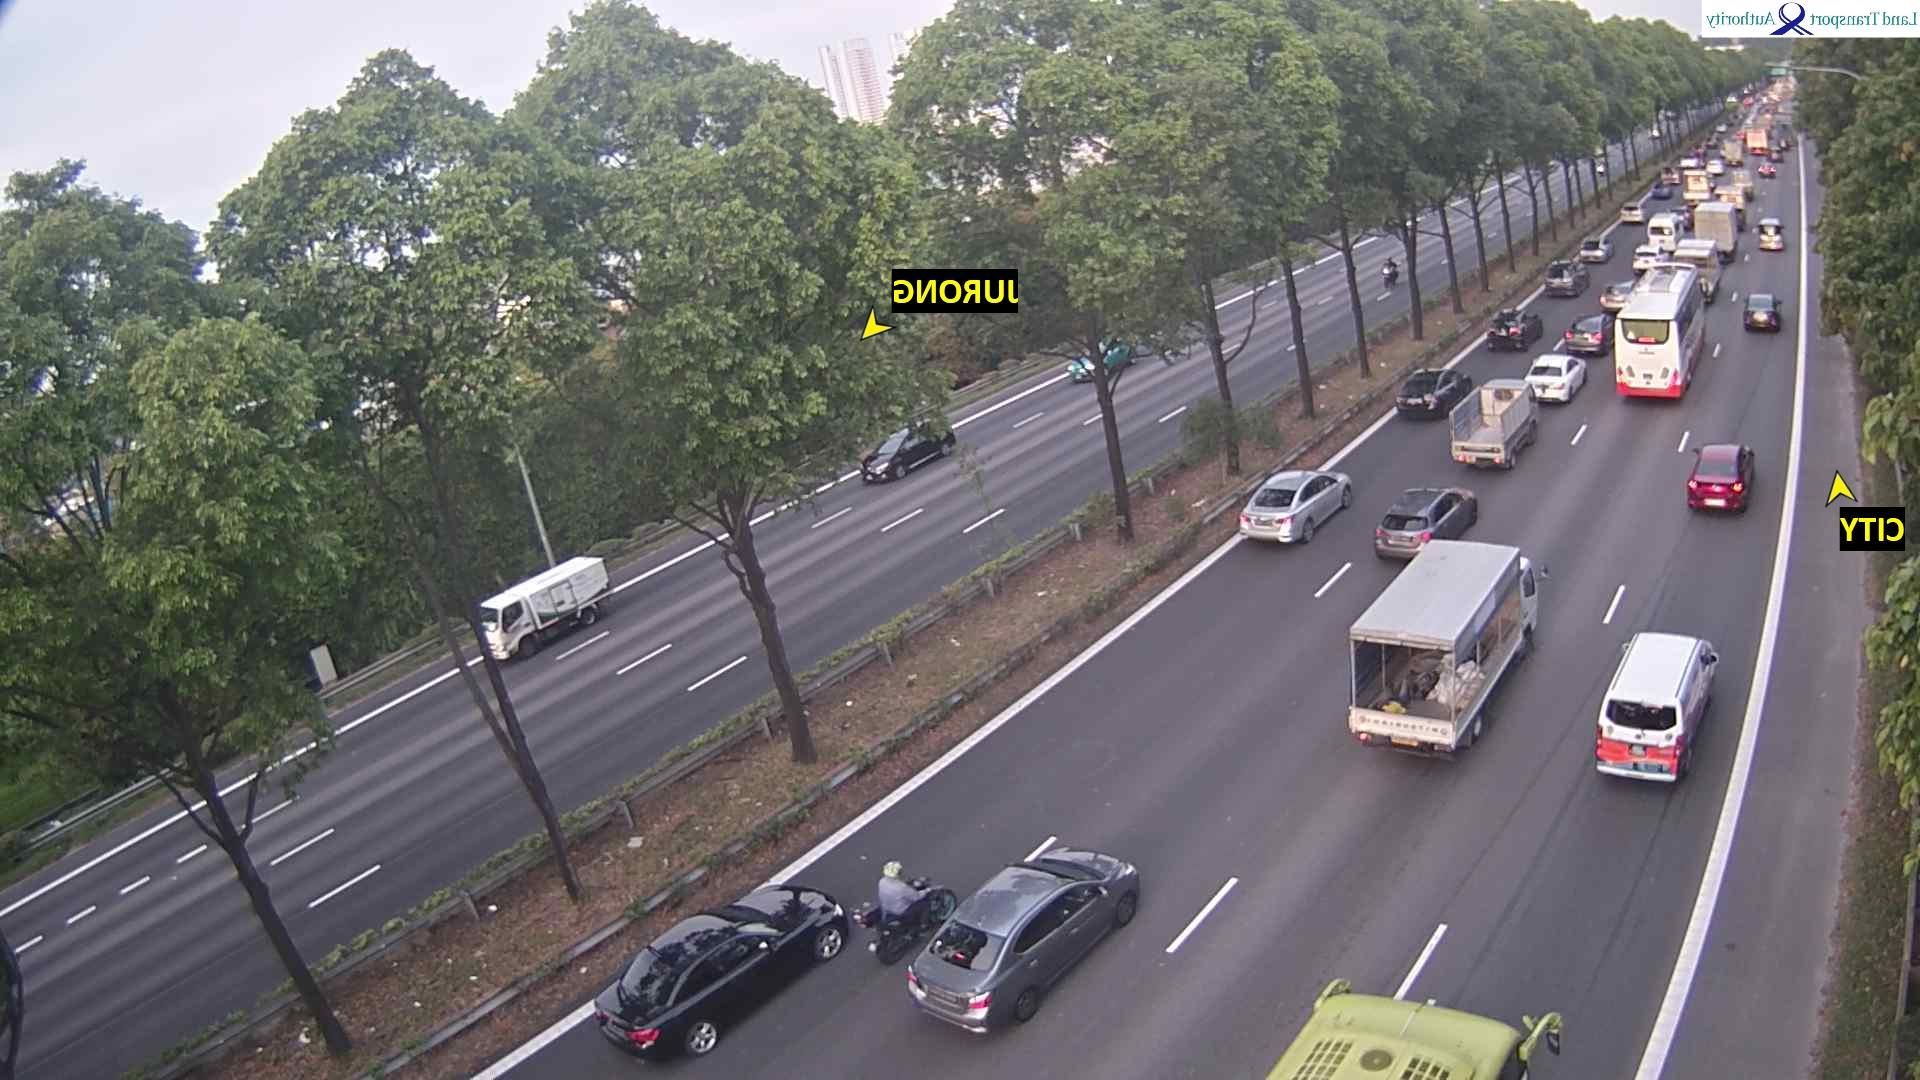bus: (1614, 261, 1709, 400)
cars: (906, 835, 1142, 1036), (593, 881, 851, 1060), (1265, 976, 1564, 1077), (1596, 630, 1721, 785), (1240, 468, 1354, 545), (1374, 485, 1480, 560), (862, 422, 957, 483), (29, 479, 116, 541), (1687, 442, 1756, 513), (1395, 367, 1473, 419), (1671, 236, 1724, 301), (1524, 352, 1589, 404), (1068, 336, 1135, 382), (1487, 306, 1544, 351), (1557, 313, 1615, 356), (1545, 257, 1592, 297), (1743, 291, 1783, 332), (1647, 211, 1687, 248), (1600, 278, 1638, 313), (1633, 241, 1669, 276), (1578, 233, 1615, 262), (1756, 218, 1787, 251), (1619, 198, 1646, 223), (1660, 162, 1685, 186), (1671, 202, 1693, 223), (1679, 149, 1702, 167), (1652, 179, 1673, 198), (1758, 160, 1778, 178), (1708, 157, 1726, 175), (1688, 144, 1709, 154), (1775, 135, 1792, 146), (1770, 146, 1783, 161), (1702, 137, 1718, 149), (1731, 131, 1745, 141), (1714, 125, 1726, 135)
motorcycle: (856, 876, 959, 967), (1381, 257, 1400, 290), (1597, 161, 1607, 177)
trucks: (1346, 537, 1544, 758), (476, 554, 611, 662), (1449, 377, 1540, 469), (1687, 206, 1738, 258), (1683, 167, 1717, 202), (1710, 187, 1743, 223), (1730, 167, 1754, 195), (1747, 127, 1767, 156), (1721, 141, 1743, 166), (1726, 115, 1742, 125)
